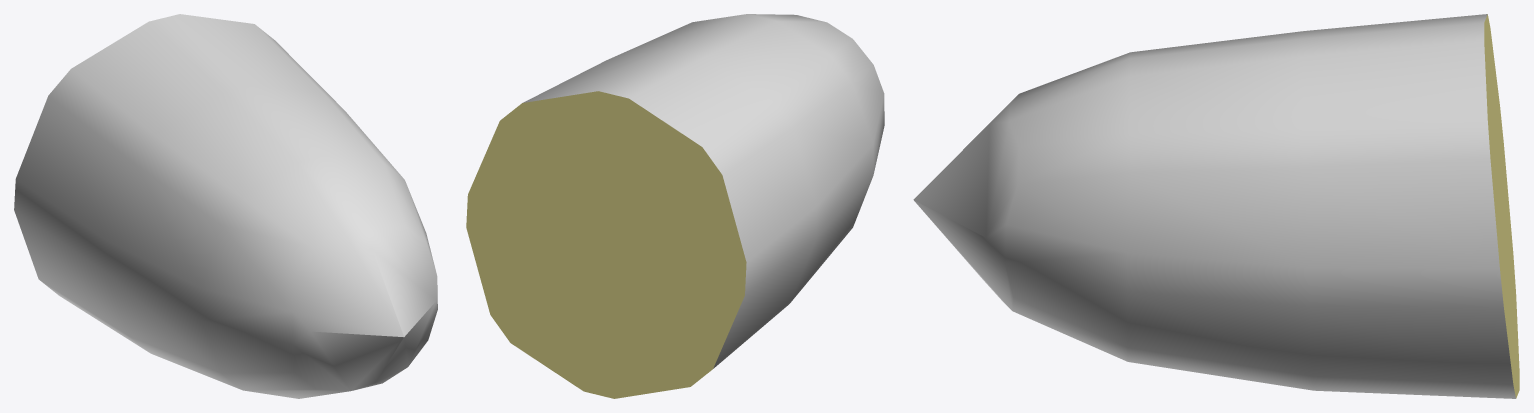
The model's file is banana-slice02.fbx.
3 renders of one model, left to right at view 1: azimuth 30°, elevation 25°; view 2: azimuth 150°, elevation 25°; view 3: azimuth 270°, elevation 25°, orthographic. The views are drawn at different scales.
Visible parts, largest first — view 1: Banana-slice02.001; view 2: Banana-slice02.001; view 3: Banana-slice02.001.
Part boxes in pixels (x1=…): Banana-slice02.001: x1=14, y1=14, x2=437, y2=398; Banana-slice02.001: x1=466, y1=14, x2=884, y2=398; Banana-slice02.001: x1=913, y1=14, x2=1519, y2=398.
Bounding box in the file's own units: 181 × 180 × 283.
